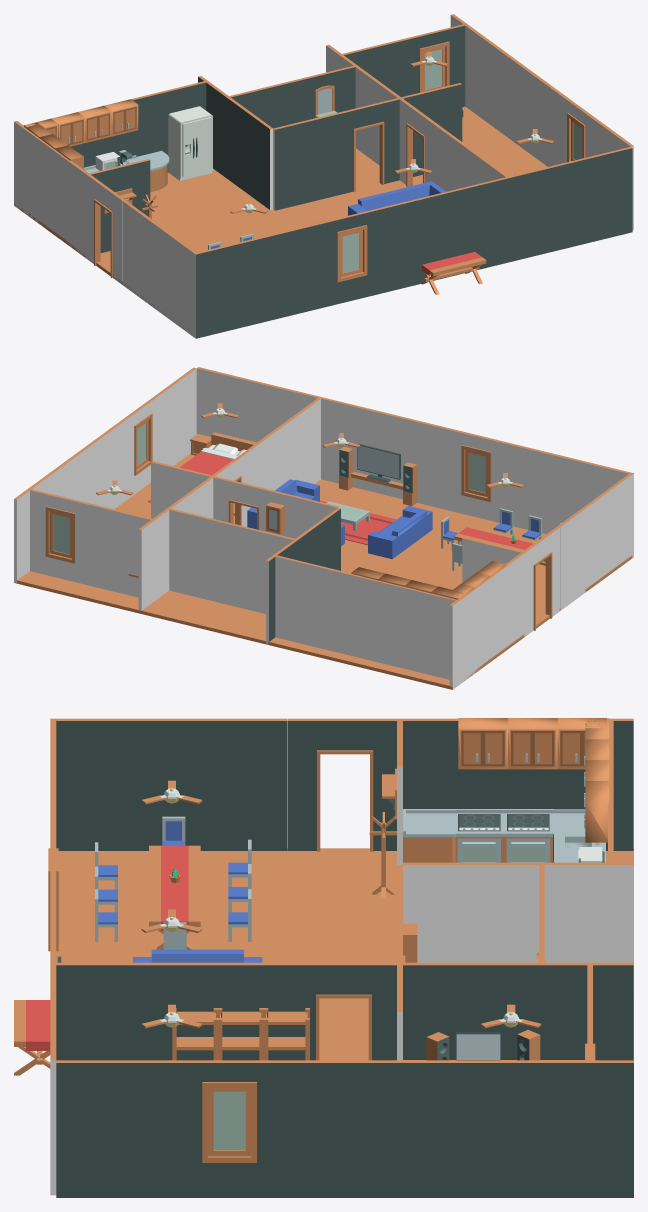
Rendered from house.obj.
3 views of the same model, one above another, from view 1: azimuth 30°, elevation 25°; view 2: azimuth 150°, elevation 25°; view 3: azimuth 270°, elevation 25° (orthographic). The views are drawn at different scales.
Visible parts, largest first — view 1: wall.027_wall.028, wallWindow.001, wall.011, wall.010, wall.025_wall.026, wall.015, wall.026_wall.027, wall.024_wall.025, wallDoorway, wallWindow, wall.013, wall.016 (+40 smaller); view 2: wall, wall.021, wallWindow, wallWindow.001, wall.020, wall.025_wall.026, wall.022, wall.026_wall.027, wall.001, wall.011, wall.024_wall.025, wall.019 (+46 smaller); view 3: wallWindow.002, wall.005, wall.006, wall.007, wall.008, wall.028_wall.029, wall.016, wall.012, wall.029_wall.030, wall.013, wall.004, wallDoorway.002 (+39 smaller).
Boxes of the visible parts, bbox=[...] form: wall.027_wall.028: bbox=[194, 238, 258, 338]; wallWindow.001: bbox=[319, 207, 382, 308]; wall.011: bbox=[569, 147, 632, 247]; wall.010: bbox=[506, 162, 570, 262]; wall.025_wall.026: bbox=[257, 223, 320, 323]; wall.015: bbox=[273, 113, 337, 210]; wall.026_wall.027: bbox=[382, 192, 445, 292]; wall.024_wall.025: bbox=[444, 177, 507, 277]; wallDoorway: bbox=[336, 98, 399, 195]; wallWindow: bbox=[401, 24, 465, 106]; wall.013: bbox=[234, 102, 273, 209]; wall.016: bbox=[122, 200, 160, 310]; wall: bbox=[169, 508, 232, 605]; wall.021: bbox=[334, 570, 397, 666]; wallWindow: bbox=[30, 489, 93, 586]; wallWindow.001: bbox=[445, 428, 508, 522]; wall.020: bbox=[272, 554, 335, 651]; wall.025_wall.026: bbox=[507, 443, 571, 534]; wall.022: bbox=[396, 585, 460, 684]; wall.026_wall.027: bbox=[383, 412, 446, 509]; wall.001: bbox=[92, 504, 155, 597]; wall.011: bbox=[196, 367, 260, 442]; wall.024_wall.025: bbox=[321, 397, 384, 494]; wall.019: bbox=[449, 579, 488, 689]; wallWindow.002: bbox=[171, 1060, 287, 1197]; wall.005: bbox=[518, 1060, 633, 1197]; wall.006: bbox=[403, 1060, 518, 1197]; wall.007: bbox=[287, 1060, 402, 1197]; wall.008: bbox=[56, 1060, 171, 1197]; wall.028_wall.029: bbox=[56, 718, 171, 850]; wall.016: bbox=[171, 718, 286, 850]; wall.012: bbox=[518, 862, 633, 994]; wall.029_wall.030: bbox=[56, 962, 171, 1060]; wall.013: bbox=[403, 862, 518, 962]; wall.004: bbox=[518, 962, 633, 1060]; wallDoorway.002: bbox=[287, 718, 402, 851].
Bounding box in the file's own units: 7.09 × 1.37 × 5.37.
